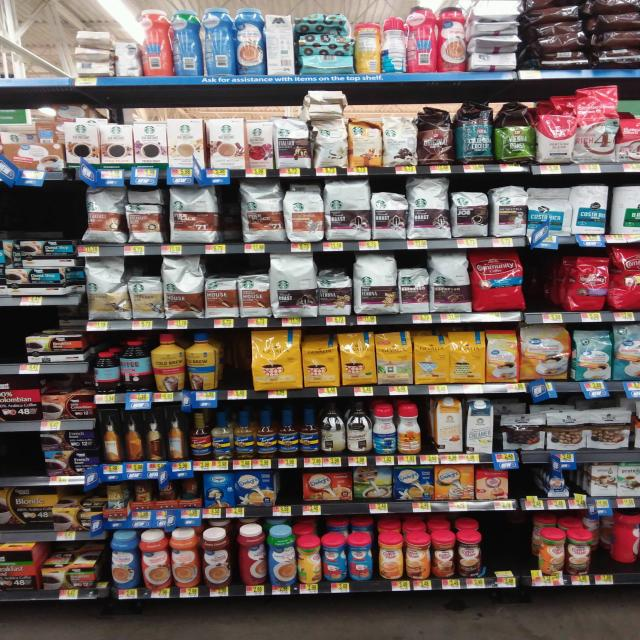void: (489, 512, 537, 590), (27, 16, 70, 91), (532, 247, 566, 325), (0, 432, 36, 487), (511, 463, 548, 512), (0, 16, 24, 89)
